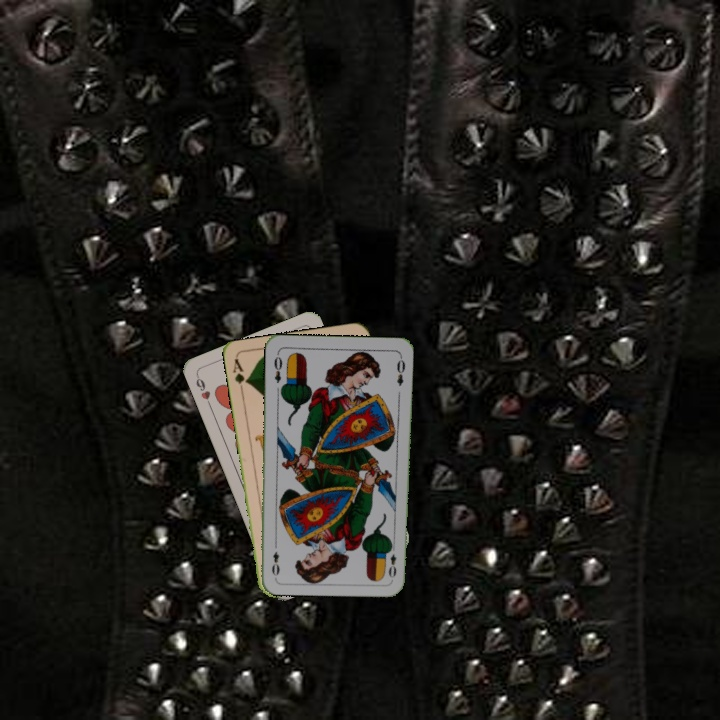EO: (384, 541, 399, 580), (270, 353, 285, 385)
GA: (229, 355, 251, 395)
H9: (192, 372, 214, 410)
